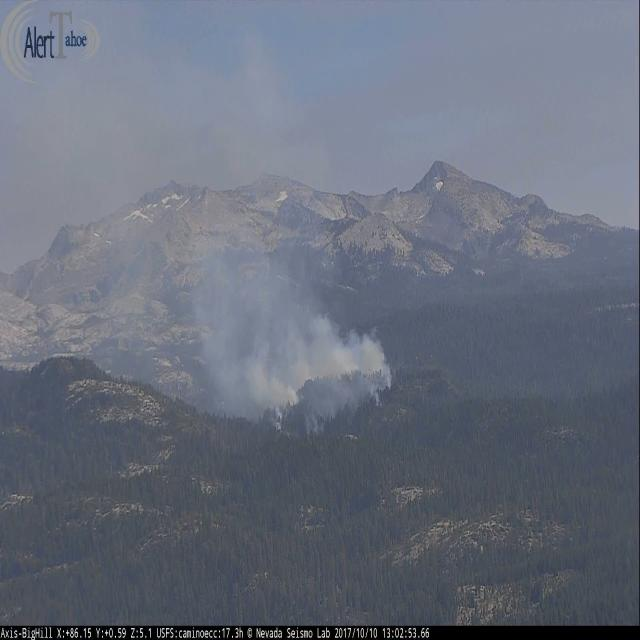smoke: (197, 245, 392, 432)
